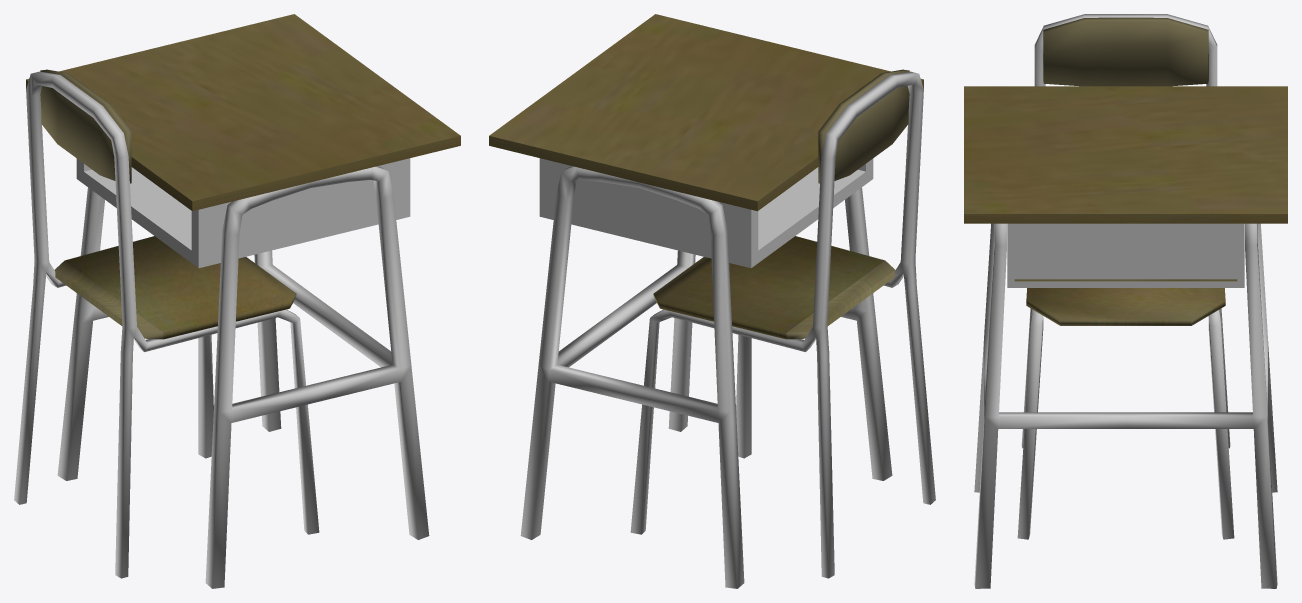
Rendered from ClassDesk.fbx.
The picture shows the model from 3 angles, left to right: view 1: azimuth 30°, elevation 25°; view 2: azimuth 150°, elevation 25°; view 3: azimuth 270°, elevation 25°; orthographic projection. The views are drawn at different scales.
Visible parts, largest first — view 1: Cube, Cube.001, Plane.001, Plane; view 2: Cube, Cube.001, Plane.001, Plane; view 3: Cube, Cube.001, Plane, Plane.001.
Part boxes in pixels (box(x1,y1,x2,y2)): Cube: box(26, 14, 460, 267); Cube.001: box(57, 166, 429, 588); Plane.001: box(14, 71, 319, 578); Plane: box(40, 69, 296, 339); Cube: box(489, 14, 923, 267); Cube.001: box(520, 166, 892, 588); Plane.001: box(630, 71, 935, 578); Plane: box(653, 69, 909, 339); Cube: box(964, 86, 1287, 287); Cube.001: box(974, 223, 1277, 588); Plane: box(1026, 17, 1225, 325); Plane.001: box(1017, 14, 1234, 539).
Bounding box in the file's own units: 1249 × 1757 × 1160.
